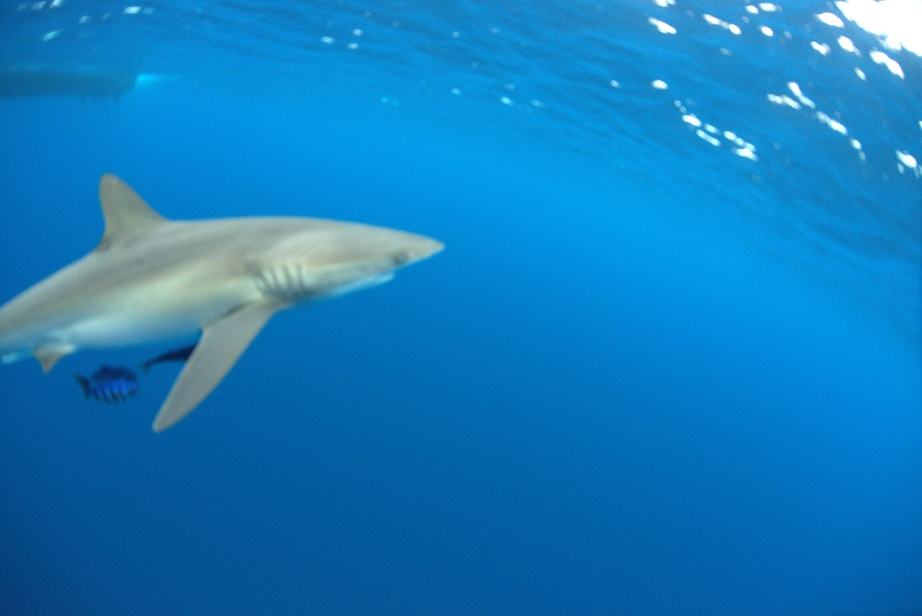Sedoso: (1, 163, 472, 446)
